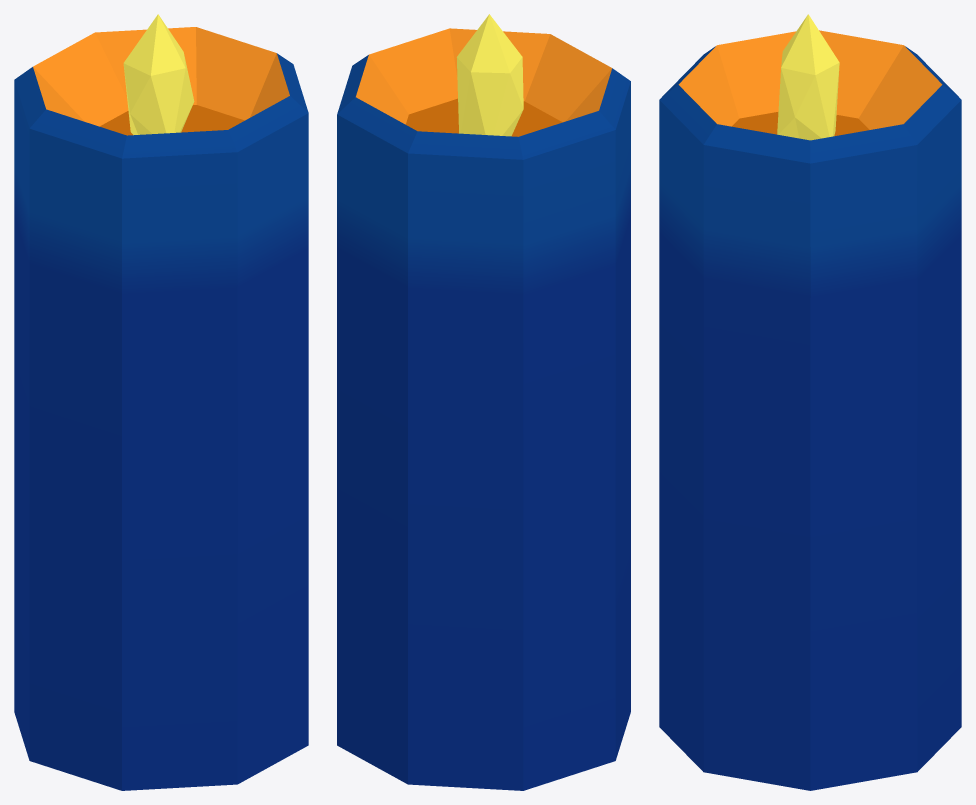
The model's file is vela-001.gltf.
3 views of the same model, side by side, from view 1: azimuth 30°, elevation 25°; view 2: azimuth 150°, elevation 25°; view 3: azimuth 270°, elevation 25° (orthographic).
Visible parts, largest first — view 1: Vela_Azul-f.001; view 2: Vela_Azul-f.001; view 3: Vela_Azul-f.001.
Part boxes in pixels (x1,y1,x2,y2): Vela_Azul-f.001: (14,14,308,790); Vela_Azul-f.001: (337,14,630,790); Vela_Azul-f.001: (659,14,961,790).
Bounding box in the file's own units: 0.0971 × 0.252 × 0.0971.
Materials: 1 (1 with a texture image).
